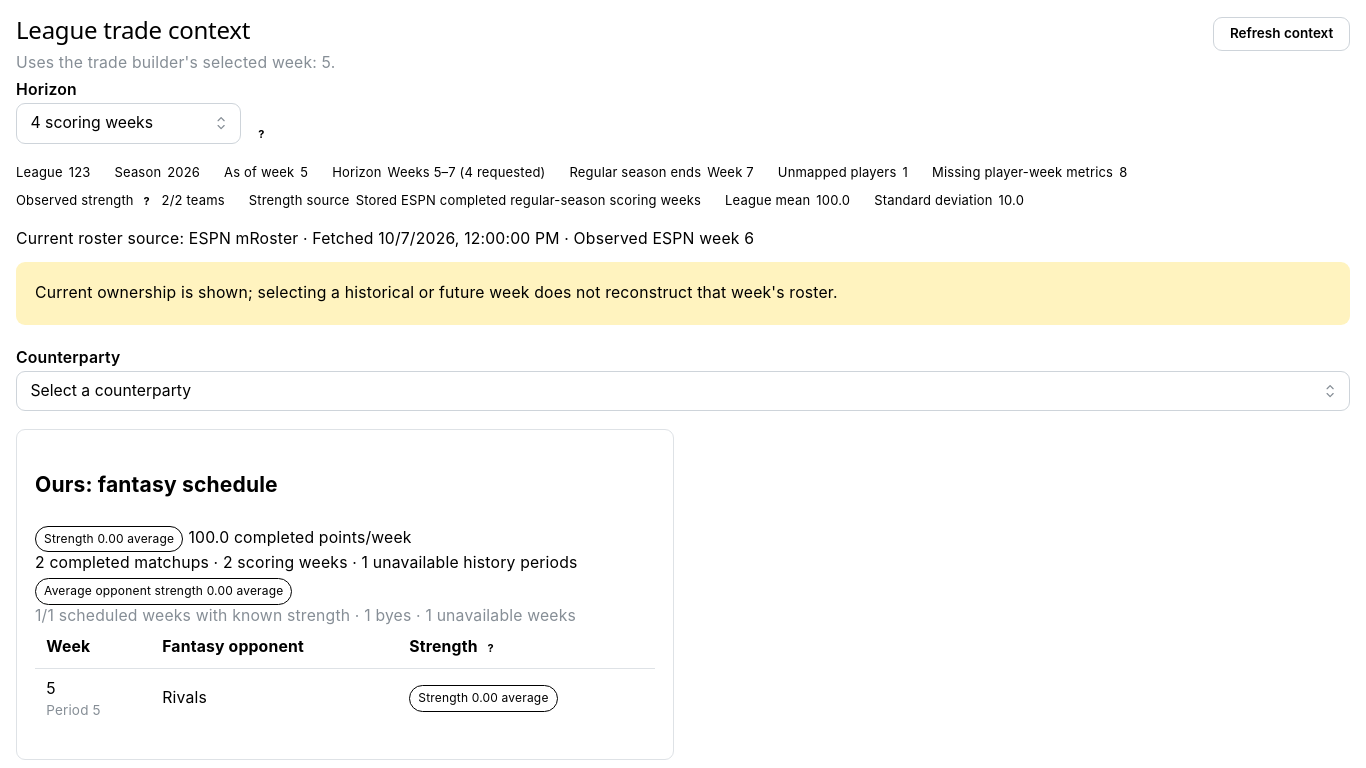
presents current ownership, identities, provenance and exact-week metrics
The image size is (1366, 768).
Select "Rivals" in the dropdown labelled "Counterparty" at coordinates (683, 391), box top-left (16, 370), bottom-right (1350, 411)
(page scrolled)
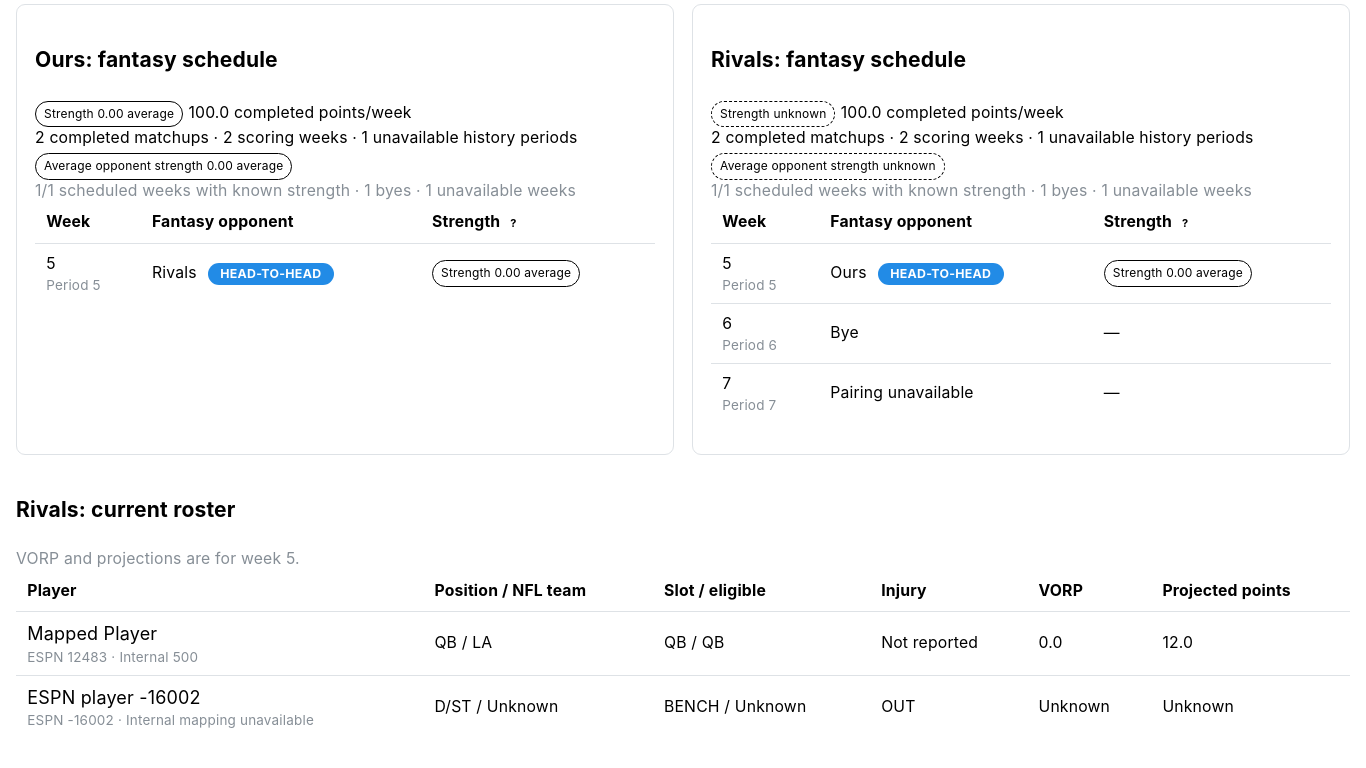
Check: the text "Mapped Player" is shown, box top-left (27, 623), bottom-right (157, 644)
Check: the text "ESPN player -16002" is shown, box top-left (27, 686), bottom-right (201, 708)
Check: the text "ESPN -16002 · Internal mapping unavailable" is shown, box top-left (27, 712), bottom-right (314, 728)
